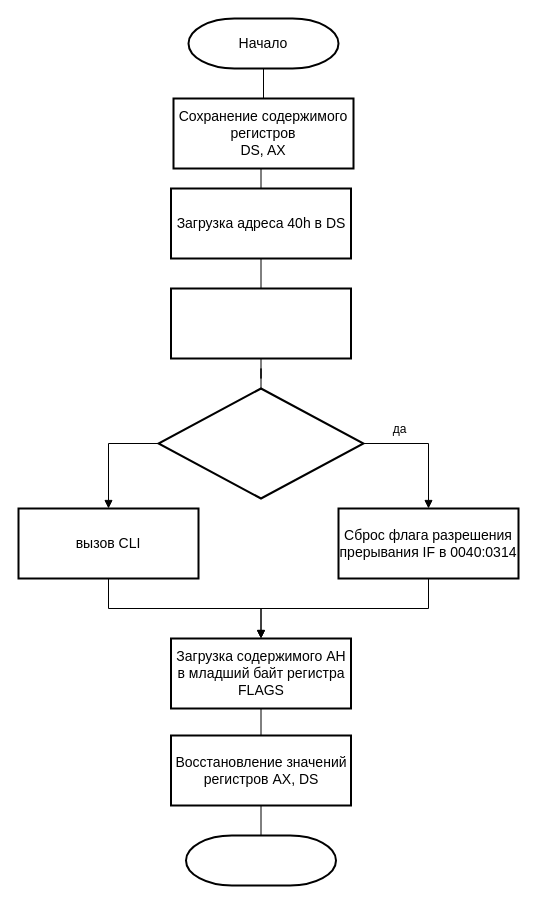
Image size: 536x903. Some labels were removed from this diagram. The box of each missing label's shape, as (x1, y1, x2, y2) in pixels:
Загрузка содержимого младшего байта регистра FLAGS в AH: (170, 287, 352, 359)
Конец: (184, 834, 336, 886)
Флаг DF == 0 и старший бит IOPL == 0: (157, 387, 364, 499)
